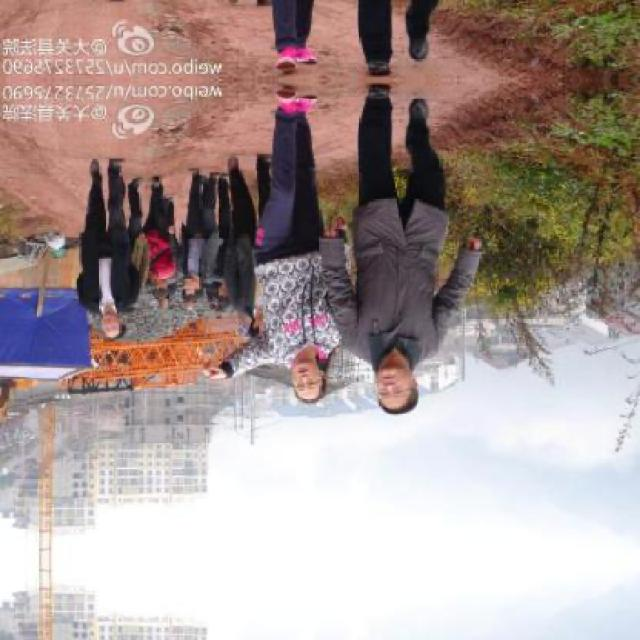sin casco: (331, 335, 437, 436), (262, 348, 334, 414), (79, 299, 151, 353)
